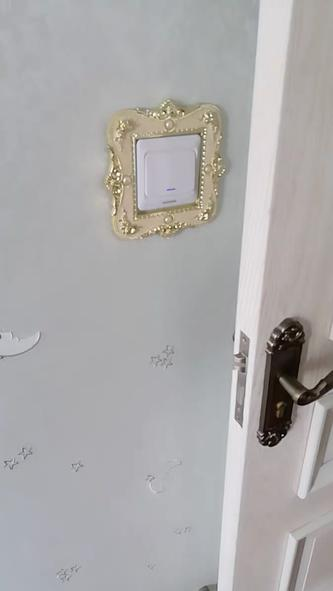switch: (140, 145, 200, 200)
